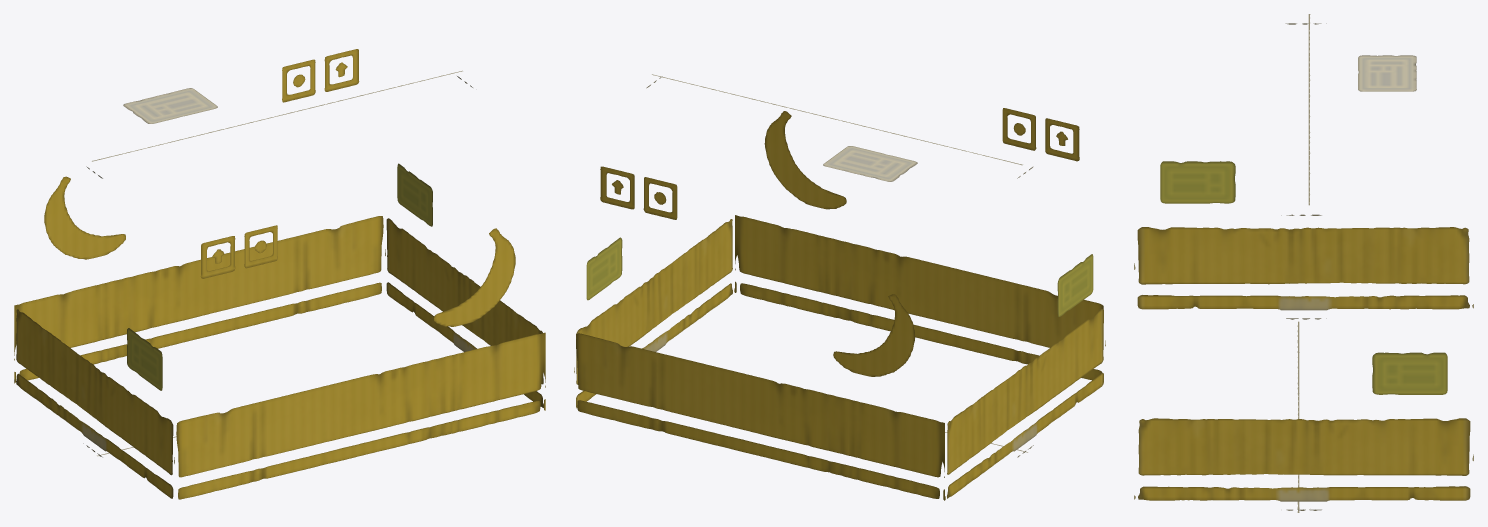
Rendered from p_mesh_bananabox.fbx.
The picture shows the model from 3 angles, left to right: view 1: azimuth 30°, elevation 25°; view 2: azimuth 150°, elevation 25°; view 3: azimuth 270°, elevation 25°; orthographic projection. The views are drawn at different scales.
Parts seen in each view (by area): view 1: obj_containers_vegboxbanana; view 2: obj_containers_vegboxbanana; view 3: obj_containers_vegboxbanana.
Part boxes in pixels (x1=…): obj_containers_vegboxbanana: x1=14, y1=49, x2=545, y2=499; obj_containers_vegboxbanana: x1=574, y1=74, x2=1105, y2=500; obj_containers_vegboxbanana: x1=1134, y1=14, x2=1473, y2=512.
Size of the model in its own units: 4 by 3 by 3.
